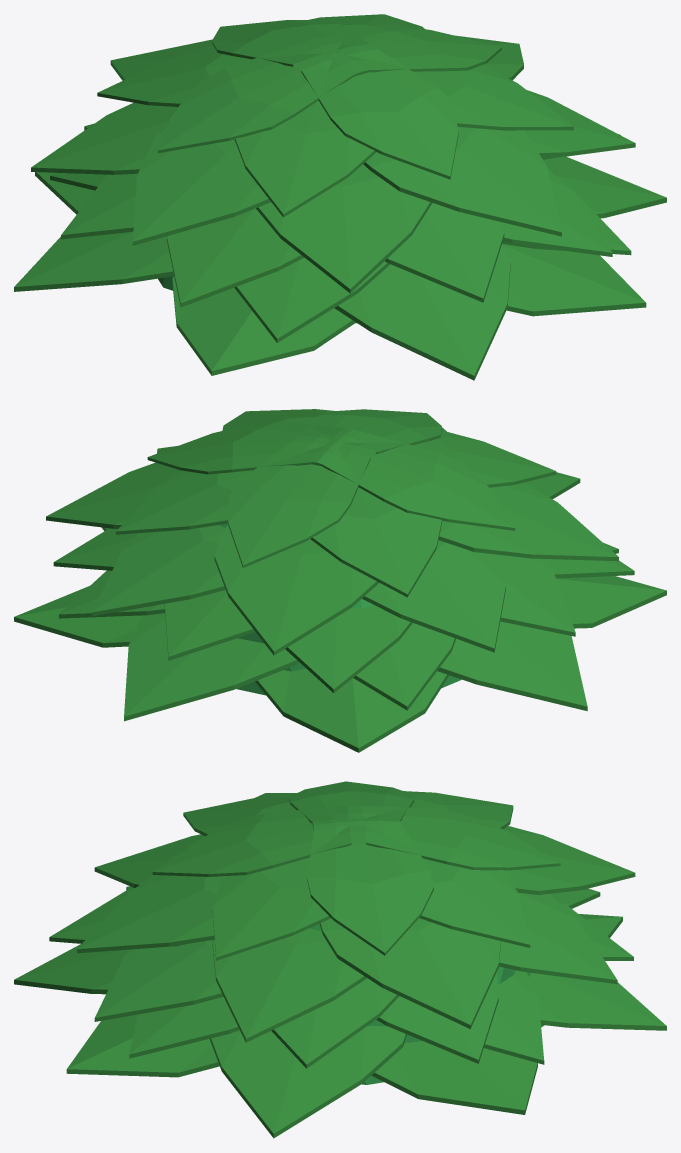
The model's file is Bush_02.fbx.
3 renders of one model, top to bottom at view 1: azimuth 30°, elevation 25°; view 2: azimuth 150°, elevation 25°; view 3: azimuth 270°, elevation 25°, orthographic. The views are drawn at different scales.
Visible parts, largest first — view 1: Bush_02; view 2: Bush_02; view 3: Bush_02.
Part boxes in pixels (x1,y1,x2,y2): Bush_02: (14,14,666,380); Bush_02: (14,409,666,752); Bush_02: (14,781,666,1138).
Bounding box in the file's own units: 991 × 306 × 999.
